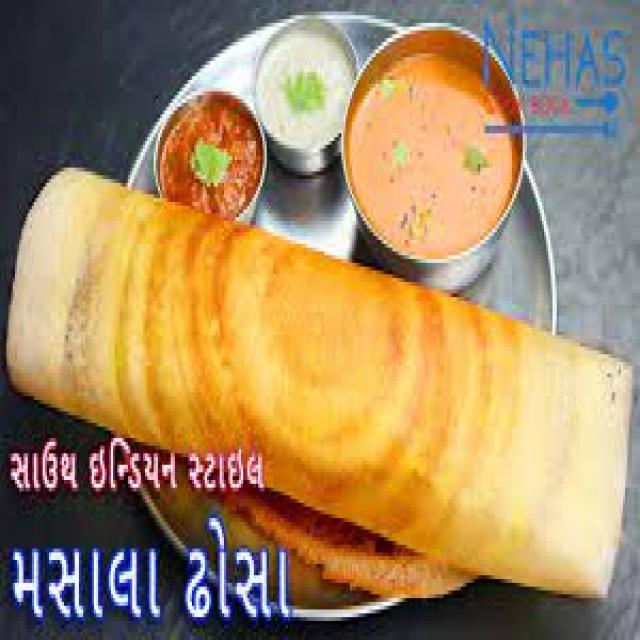Wet Waste: (4, 160, 638, 602), (256, 11, 354, 160)
